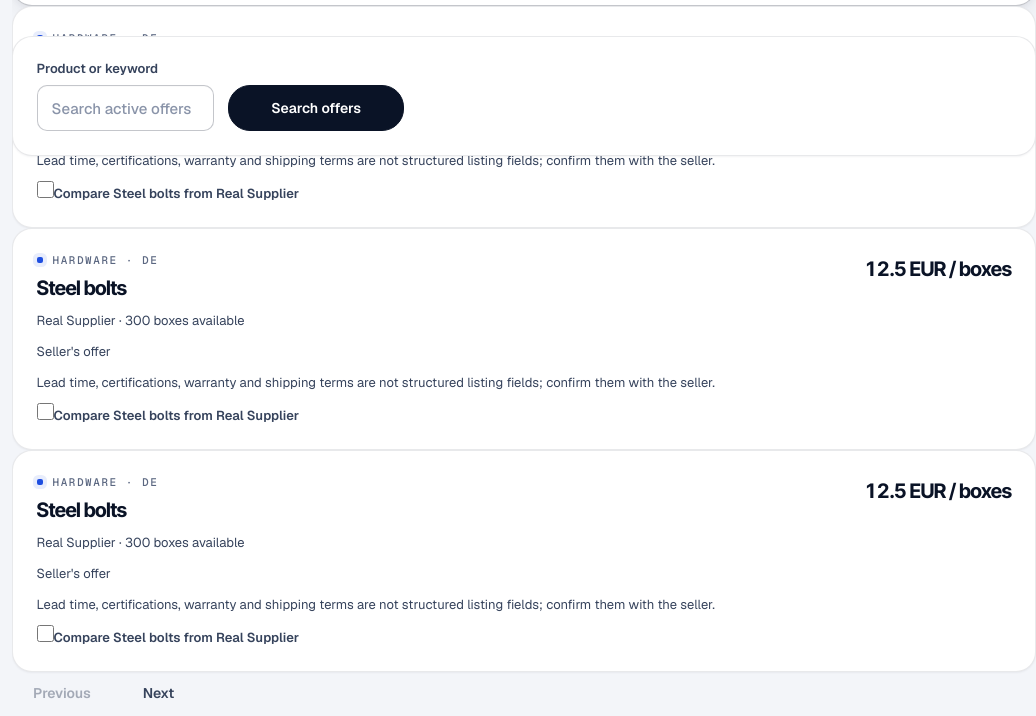
Test case: live sourcing › paginates offers and supports links to listings outside the current page
(page scrolled)
Click the button "Next": {"x": 158, "y": 694} [122,672,195,715]
(page scrolled)
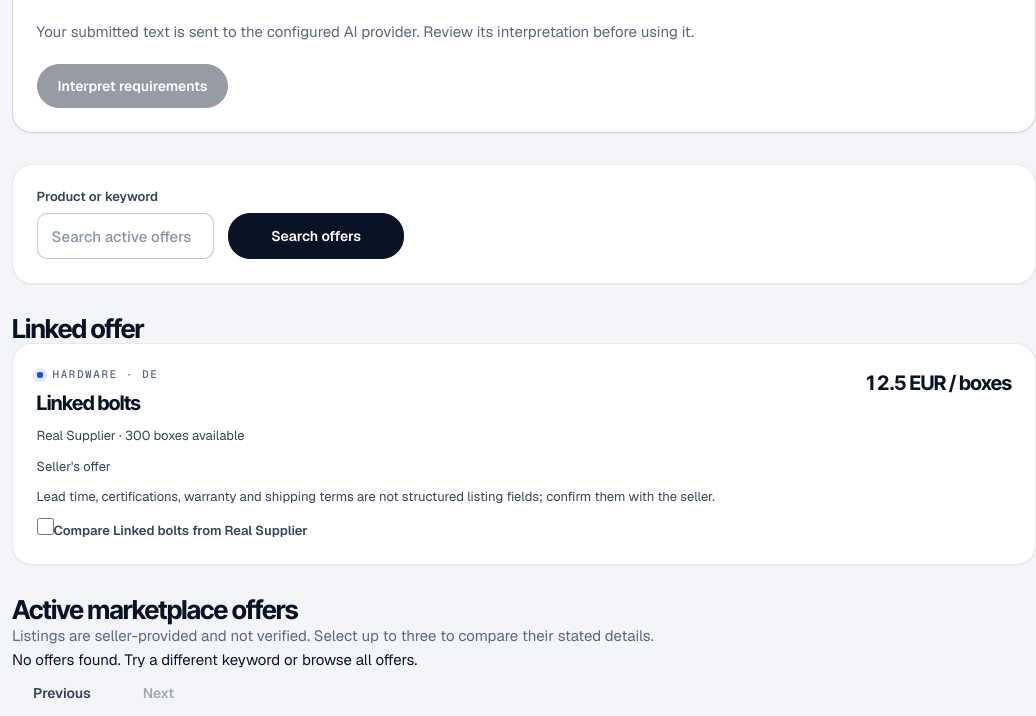
Expected: the text "No offers found" is shown, [12,650,417,669]
